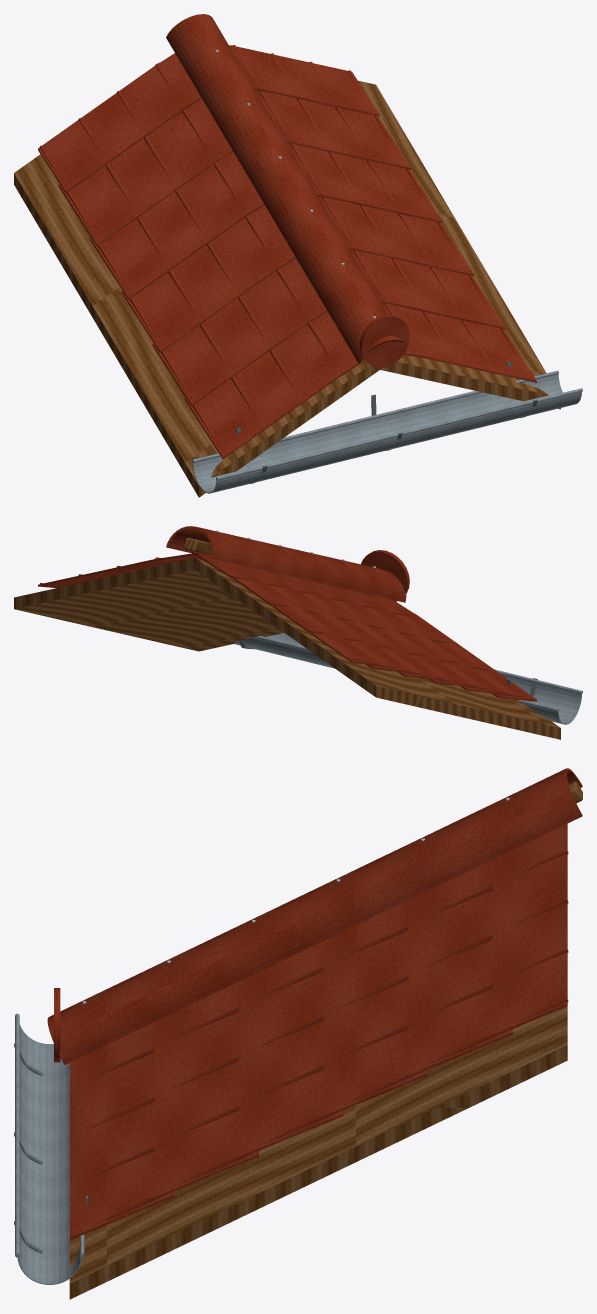
File: modell.glb
3 renders of one model, top to bottom at view 1: azimuth 30°, elevation 25°; view 2: azimuth 150°, elevation 25°; view 3: azimuth 270°, elevation 25°, orthographic. The views are drawn at different scales.
Parts seen in each view (by area): view 1: w02-ziegel_deckung, w02-walmflaeche_tragwerk, w02-gratziegel_deckung, w02-rinne_, w02-gratfuss_deckung; view 2: w02-walmflaeche_tragwerk, w02-ziegel_deckung, w02-gratziegel_deckung, w02-rinne_, w02-gratfuss_deckung, w02-gratlatte_lattung; view 3: w02-ziegel_deckung, w02-gratziegel_deckung, w02-walmflaeche_tragwerk, w02-rinne_.
Part boxes in pixels (x1=…): w02-ziegel_deckung: x1=38, y1=45, x2=536, y2=459; w02-walmflaeche_tragwerk: x1=14, y1=80, x2=560, y2=497; w02-gratziegel_deckung: x1=166, y1=14, x2=403, y2=363; w02-rinne_: x1=192, y1=370, x2=582, y2=493; w02-gratfuss_deckung: x1=359, y1=314, x2=409, y2=367; w02-walmflaeche_tragwerk: x1=14, y1=558, x2=560, y2=739; w02-ziegel_deckung: x1=38, y1=551, x2=536, y2=701; w02-gratziegel_deckung: x1=166, y1=526, x2=406, y2=602; w02-rinne_: x1=234, y1=633, x2=582, y2=724; w02-gratfuss_deckung: x1=361, y1=550, x2=409, y2=601; w02-gratlatte_lattung: x1=184, y1=537, x2=211, y2=555; w02-ziegel_deckung: x1=69, y1=823, x2=568, y2=1239; w02-gratziegel_deckung: x1=47, y1=768, x2=582, y2=1064; w02-walmflaeche_tragwerk: x1=69, y1=1006, x2=567, y2=1299; w02-rinne_: x1=15, y1=1013, x2=84, y2=1284.
Bounding box in the file's own units: 2.28 × 1.81 × 2.28.
Materials: 5 (3 with a texture image).
